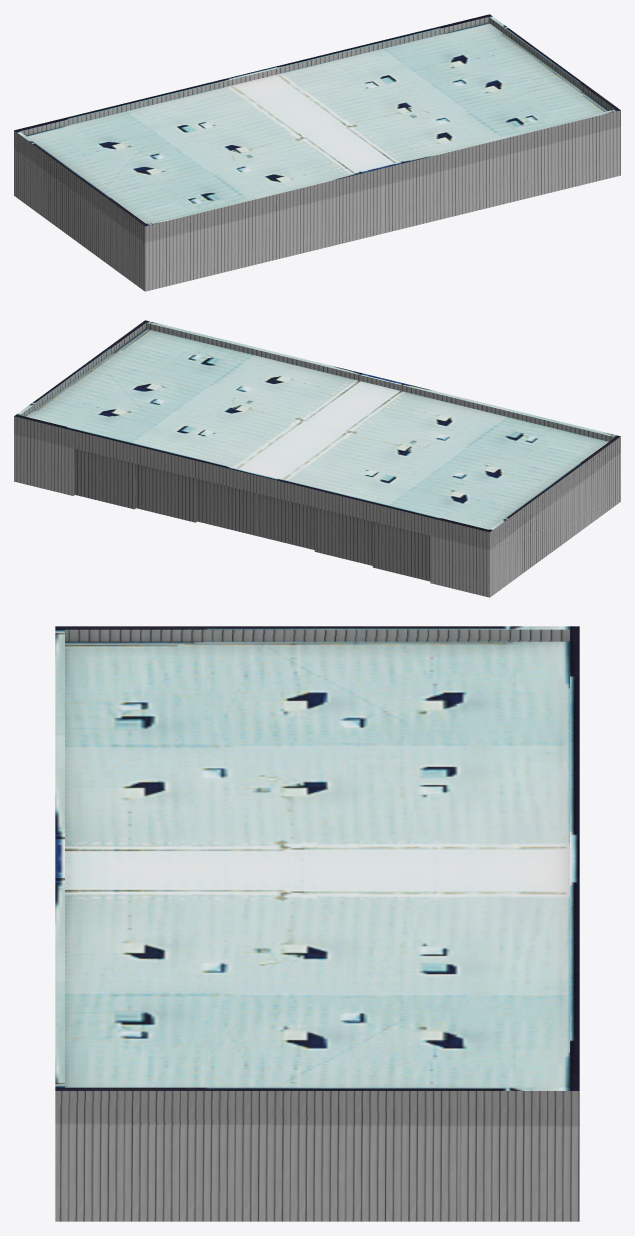
The model's file is Hangar8.gltf.
3 views of the same model, one above another, from view 1: azimuth 30°, elevation 25°; view 2: azimuth 150°, elevation 25°; view 3: azimuth 270°, elevation 25° (orthographic). The views are drawn at different scales.
Visible parts, largest first — view 1: Hangar8; view 2: Hangar8; view 3: Hangar8.
Part boxes in pixels (bbox=[...]): Hangar8: bbox=[14, 14, 620, 291]; Hangar8: bbox=[14, 320, 620, 597]; Hangar8: bbox=[55, 626, 579, 1221].
Bounding box in the file's own units: 83.81 × 11 × 40.01.
1 material, 1 textured.
